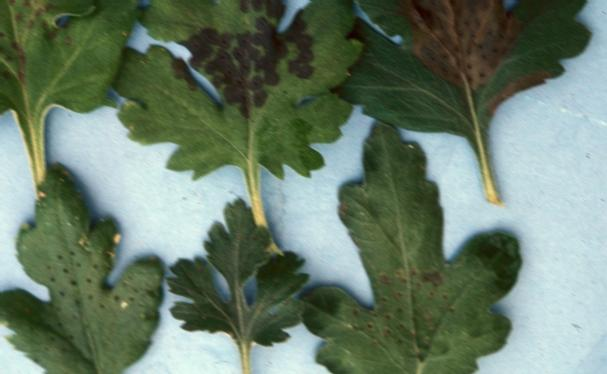Tomato leaf bacterial spot: (284, 104, 531, 374), (0, 140, 166, 374), (0, 0, 150, 177), (164, 202, 305, 374)
